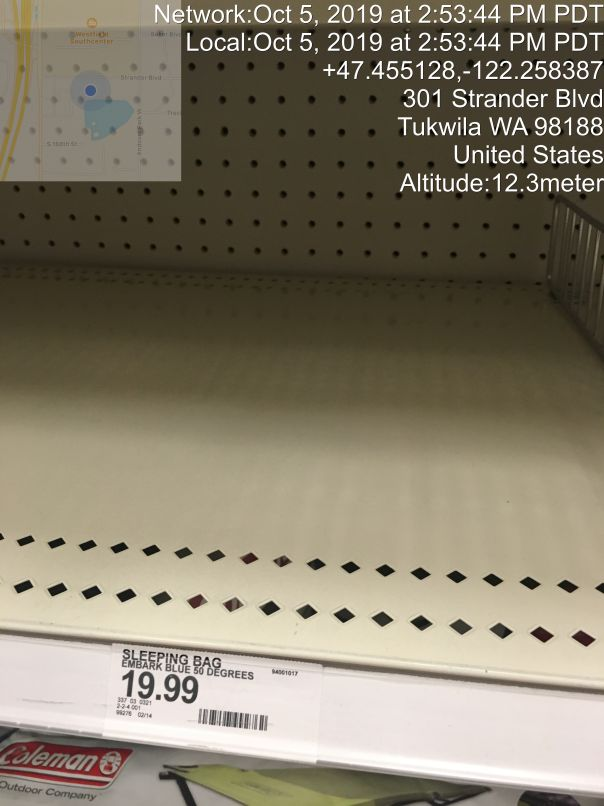Label: (104, 643, 336, 777)
Location: (386, 86, 604, 168)
Time: (144, 2, 604, 56)
Void: (31, 78, 511, 602)
